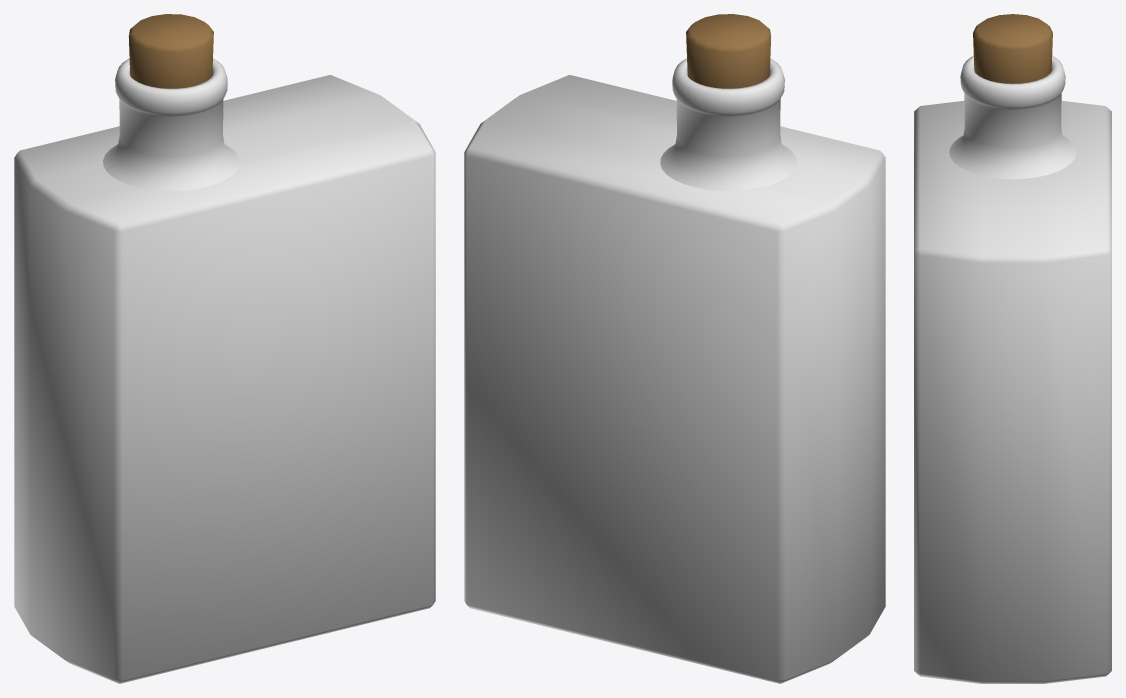
File: Large.glb
3 renders of one model, left to right at view 1: azimuth 30°, elevation 25°; view 2: azimuth 150°, elevation 25°; view 3: azimuth 270°, elevation 25°, orthographic. The views are drawn at different scales.
Parts seen in each view (by area): view 1: LargeBottle, LargeFixins; view 2: LargeBottle, LargeFixins; view 3: LargeBottle, LargeFixins.
Boxes of the visible parts, bbox=[...] form: LargeBottle: bbox=[14, 58, 435, 683]; LargeFixins: bbox=[128, 14, 213, 88]; LargeBottle: bbox=[464, 58, 885, 683]; LargeFixins: bbox=[686, 14, 771, 88]; LargeBottle: bbox=[914, 56, 1111, 683]; LargeFixins: bbox=[973, 14, 1052, 83].
Size of the model in its own units: 4.64 by 7.39 by 2.4.
